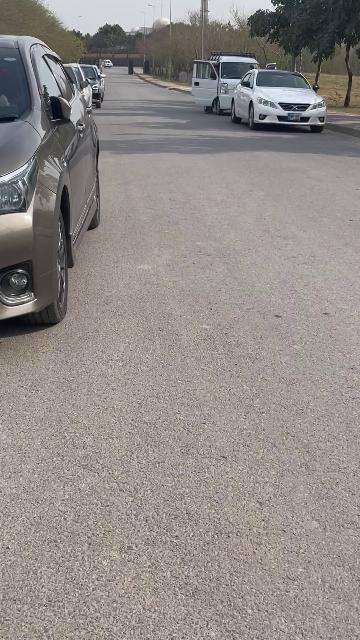plate: (287, 113, 301, 121)
